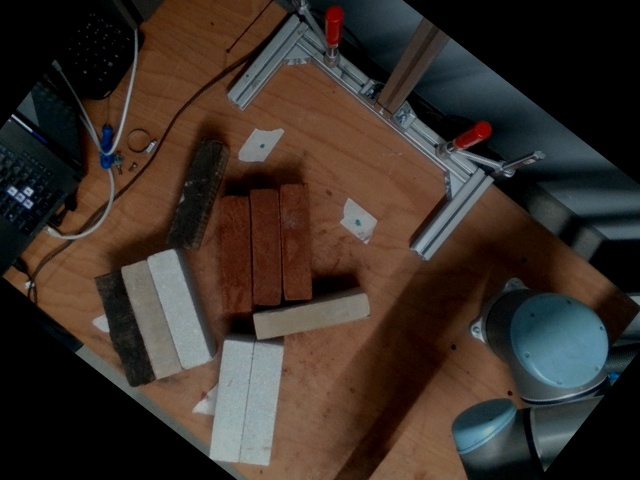brick-side: (147, 249, 206, 367), (120, 261, 179, 379), (95, 271, 153, 389), (165, 138, 220, 248), (254, 295, 367, 338), (241, 346, 279, 464), (212, 342, 250, 460), (282, 187, 309, 298), (225, 195, 252, 306), (252, 193, 279, 303)
